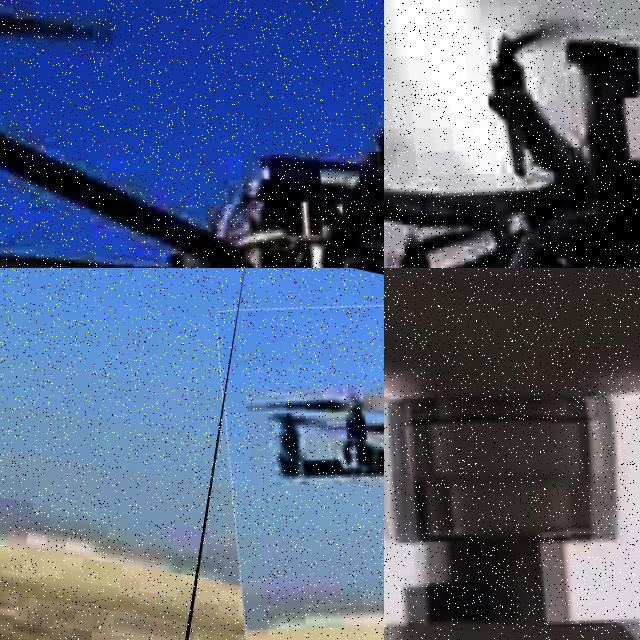0: (0, 0, 384, 268), (179, 268, 384, 640), (384, 0, 640, 268)
drone: (384, 268, 640, 640)
